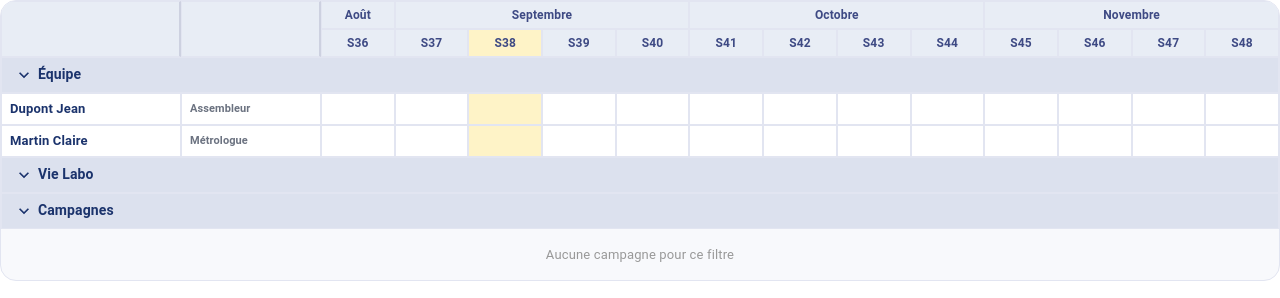
Test: PlanningGrid › Section collapse › should collapse Équipe section when clicked
This screenshot has width=1280, height=298.
Click the Équipe section toggle
Click the button "Équipe".
click(48, 75)  # box [14, 65, 81, 85]
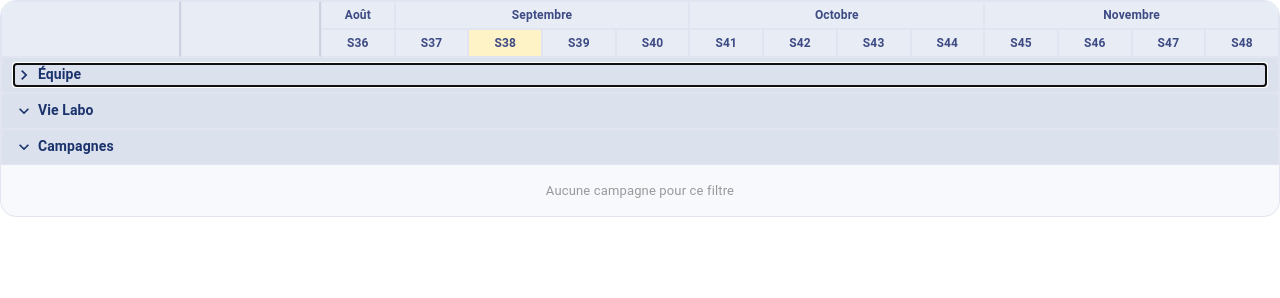
Now the button "Équipe" is collapsed, box [14, 65, 81, 85]
